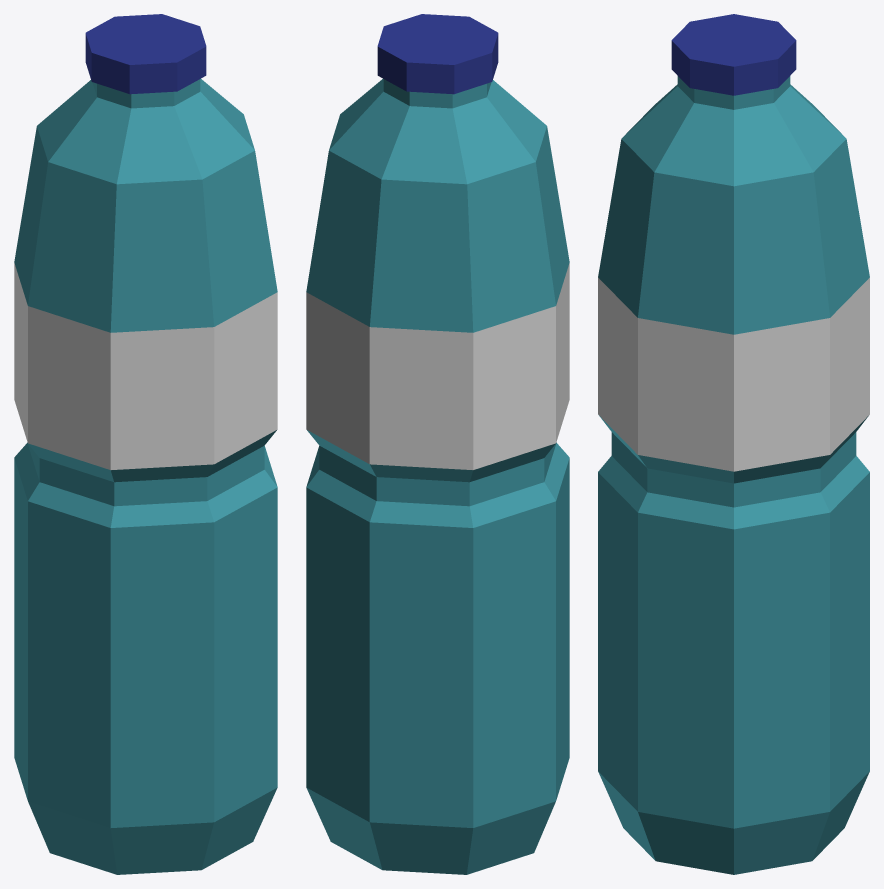
The model's file is C_Water_Bottle.fbx.
The picture shows the model from 3 angles, left to right: view 1: azimuth 30°, elevation 25°; view 2: azimuth 150°, elevation 25°; view 3: azimuth 270°, elevation 25°; orthographic projection.
Visible parts, largest first — view 1: C_Water_Bottle; view 2: C_Water_Bottle; view 3: C_Water_Bottle.
Boxes of the visible parts, box(x1,y1,x2,y2) form: C_Water_Bottle: box(14, 14, 277, 874); C_Water_Bottle: box(306, 14, 569, 874); C_Water_Bottle: box(598, 14, 869, 874).
Size of the model in its own units: 54.28 by 54.28 by 173.
